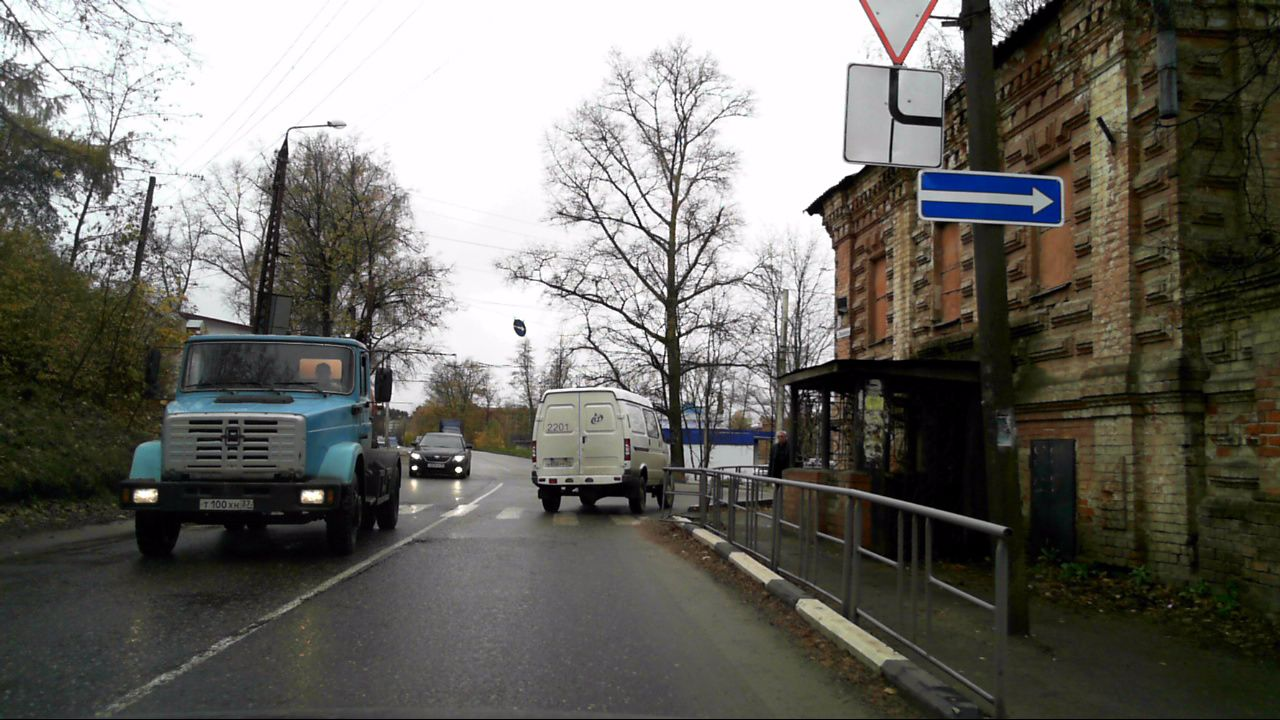One-Way Traffic: (919, 169, 1063, 226)
